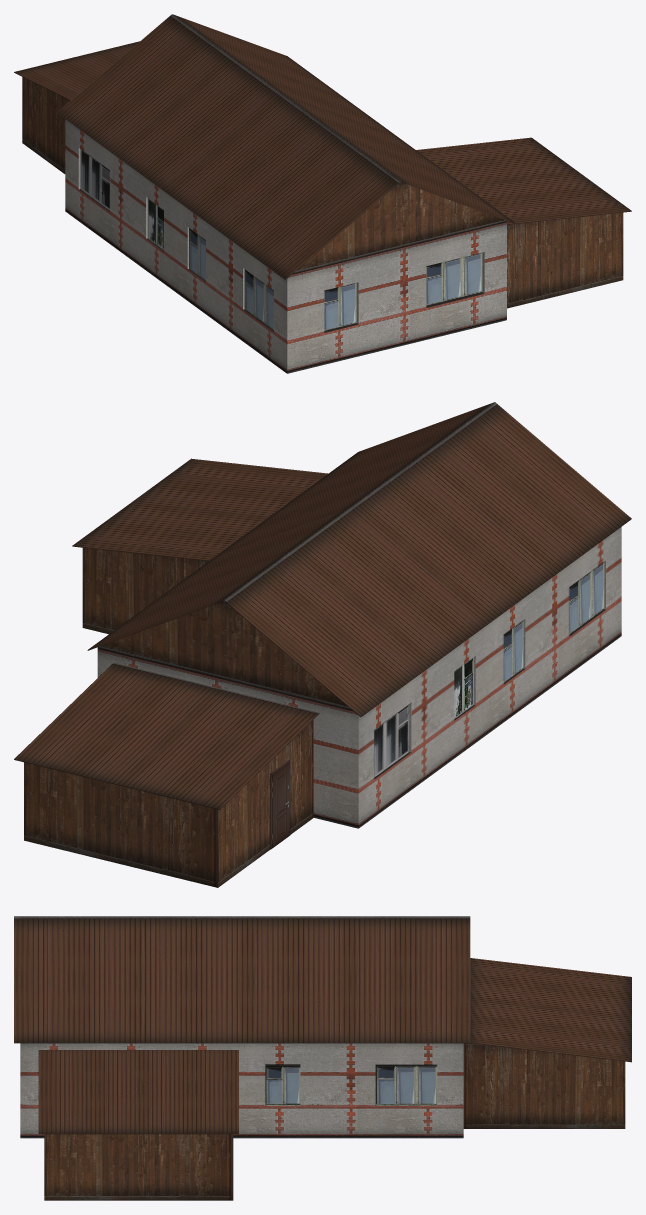
The model's file is house.glb.
The picture shows the model from 3 angles, top to bottom: view 1: azimuth 30°, elevation 25°; view 2: azimuth 150°, elevation 25°; view 3: azimuth 270°, elevation 25°; orthographic projection. The views are drawn at different scales.
Parts seen in each view (by area): view 1: Box001; view 2: Box001; view 3: Box001.
Boxes of the visible parts, x1=… form: Box001: x1=14, y1=14, x2=631, y2=373; Box001: x1=14, y1=402, x2=631, y2=887; Box001: x1=14, y1=916, x2=631, y2=1200.
Size of the model in its own units: 12.1 by 5.41 by 18.03.
1 material, 1 textured.
